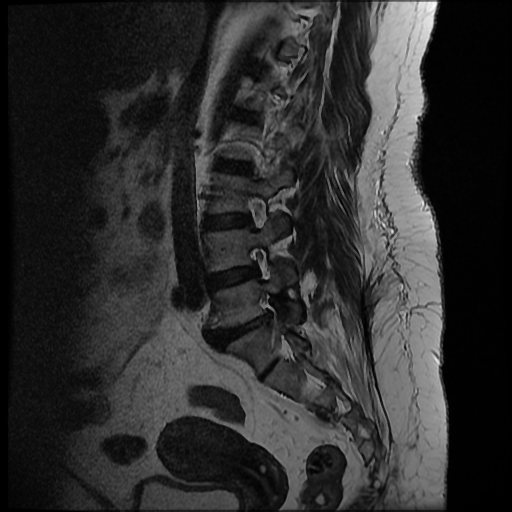RFS0: (236, 238, 287, 289), (237, 187, 284, 240)
